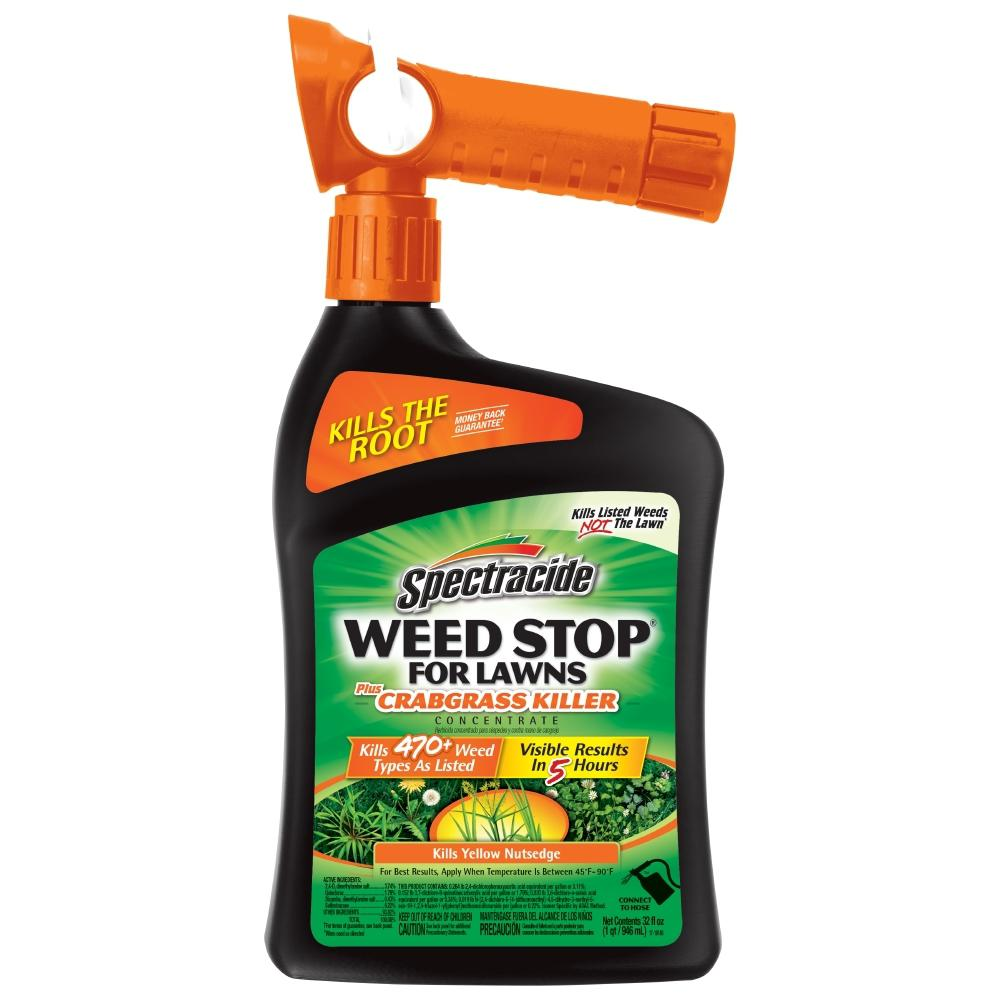crabgrass: (335, 791, 395, 866)
